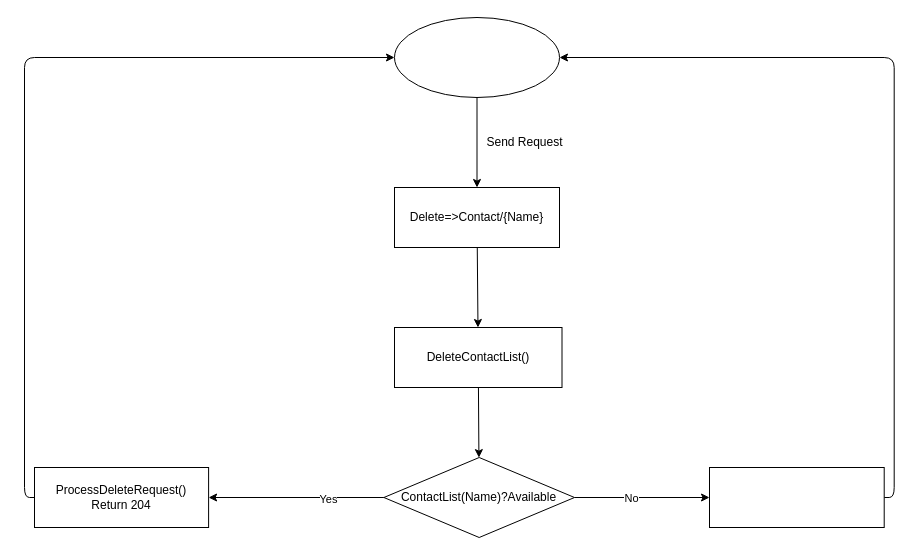
This 920x555 diagram has some shape labels left out. The shapes that lost their labels are listed below. From the top down, each one's centre as x and y in pixels, then its label:
At pixel 477 57: "Client".
At pixel 796 497: "SendResponseError() Return 400".
